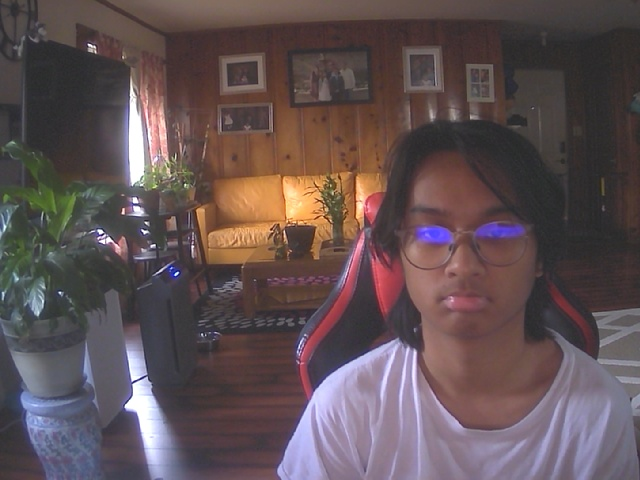sad: (389, 127, 550, 346)
